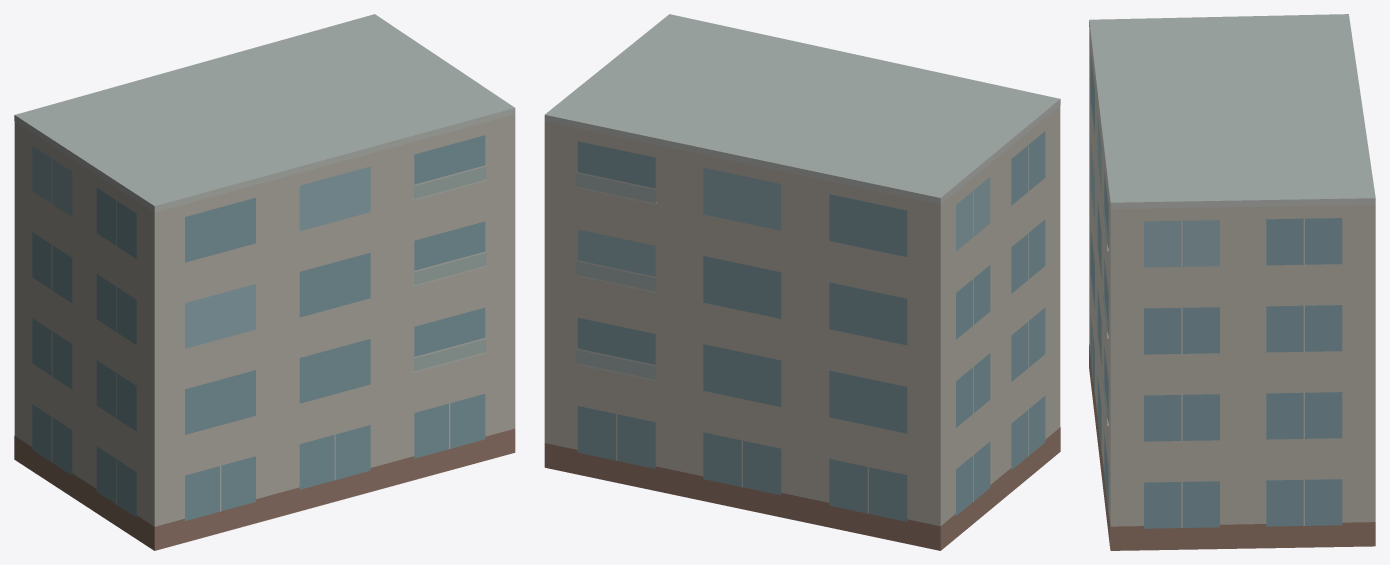
Rendered from survey-upis-32912486.glb.
The picture shows the model from 3 angles, left to right: view 1: azimuth 30°, elevation 25°; view 2: azimuth 150°, elevation 25°; view 3: azimuth 270°, elevation 25°; orthographic projection. The views are drawn at different scales.
Parts seen in each view (by area): view 1: survey-upis-32912486.tmp; view 2: survey-upis-32912486.tmp; view 3: survey-upis-32912486.tmp.
Boxes of the visible parts, x1=… form: survey-upis-32912486.tmp: x1=14, y1=14, x2=515, y2=550; survey-upis-32912486.tmp: x1=544, y1=14, x2=1060, y2=550; survey-upis-32912486.tmp: x1=1089, y1=14, x2=1375, y2=550.
Size of the model in its own units: 15.24 by 13.1 by 9.78.
